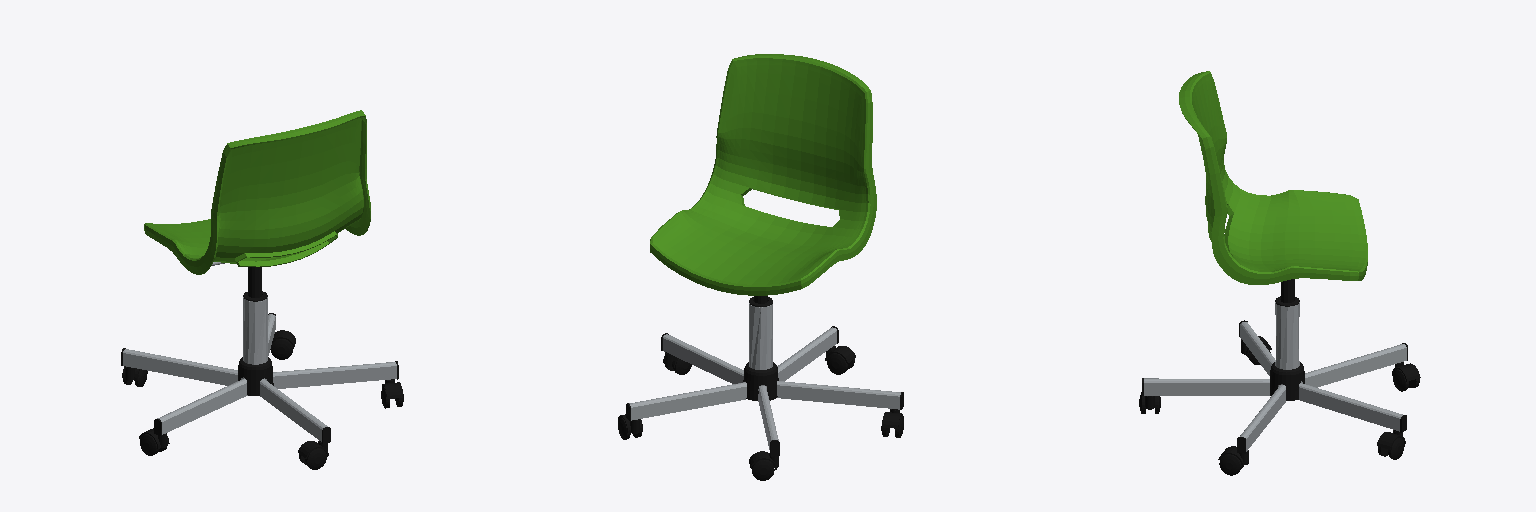
3 renders of one model, left to right at view 1: azimuth 30°, elevation 25°; view 2: azimuth 150°, elevation 25°; view 3: azimuth 270°, elevation 25°, orthographic.
Parts seen in each view (by area): view 1: Mesh2 Group2 SNILLE_IKEA1 Model, Mesh8 Group6 SNILLE_IKEA1 Model, Mesh7 Group5 SNILLE_IKEA1 Model, Mesh1 Group1 SNILLE_IKEA1 Model, Mesh3 Group3 SNILLE_IKEA1 Model; view 2: Mesh2 Group2 SNILLE_IKEA1 Model, Mesh8 Group6 SNILLE_IKEA1 Model, Mesh7 Group5 SNILLE_IKEA1 Model, Mesh1 Group1 SNILLE_IKEA1 Model; view 3: Mesh2 Group2 SNILLE_IKEA1 Model, Mesh8 Group6 SNILLE_IKEA1 Model, Mesh7 Group5 SNILLE_IKEA1 Model, Mesh1 Group1 SNILLE_IKEA1 Model.
Boxes of the visible parts, <box> form: Mesh2 Group2 SNILLE_IKEA1 Model: <box>144,110,370,274</box>; Mesh8 Group6 SNILLE_IKEA1 Model: <box>121,313,398,443</box>; Mesh7 Group5 SNILLE_IKEA1 Model: <box>243,297,267,364</box>; Mesh1 Group1 SNILLE_IKEA1 Model: <box>238,357,273,395</box>; Mesh3 Group3 SNILLE_IKEA1 Model: <box>243,267,267,301</box>; Mesh2 Group2 SNILLE_IKEA1 Model: <box>650,54,876,295</box>; Mesh8 Group6 SNILLE_IKEA1 Model: <box>626,326,903,456</box>; Mesh7 Group5 SNILLE_IKEA1 Model: <box>749,303,772,369</box>; Mesh1 Group1 SNILLE_IKEA1 Model: <box>743,362,778,400</box>; Mesh2 Group2 SNILLE_IKEA1 Model: <box>1179,71,1367,284</box>; Mesh8 Group6 SNILLE_IKEA1 Model: <box>1142,320,1407,453</box>; Mesh7 Group5 SNILLE_IKEA1 Model: <box>1275,302,1299,369</box>; Mesh1 Group1 SNILLE_IKEA1 Model: <box>1270,362,1304,400</box>.
Bounding box in the file's own units: 0.5954 × 0.7409 × 0.5861.